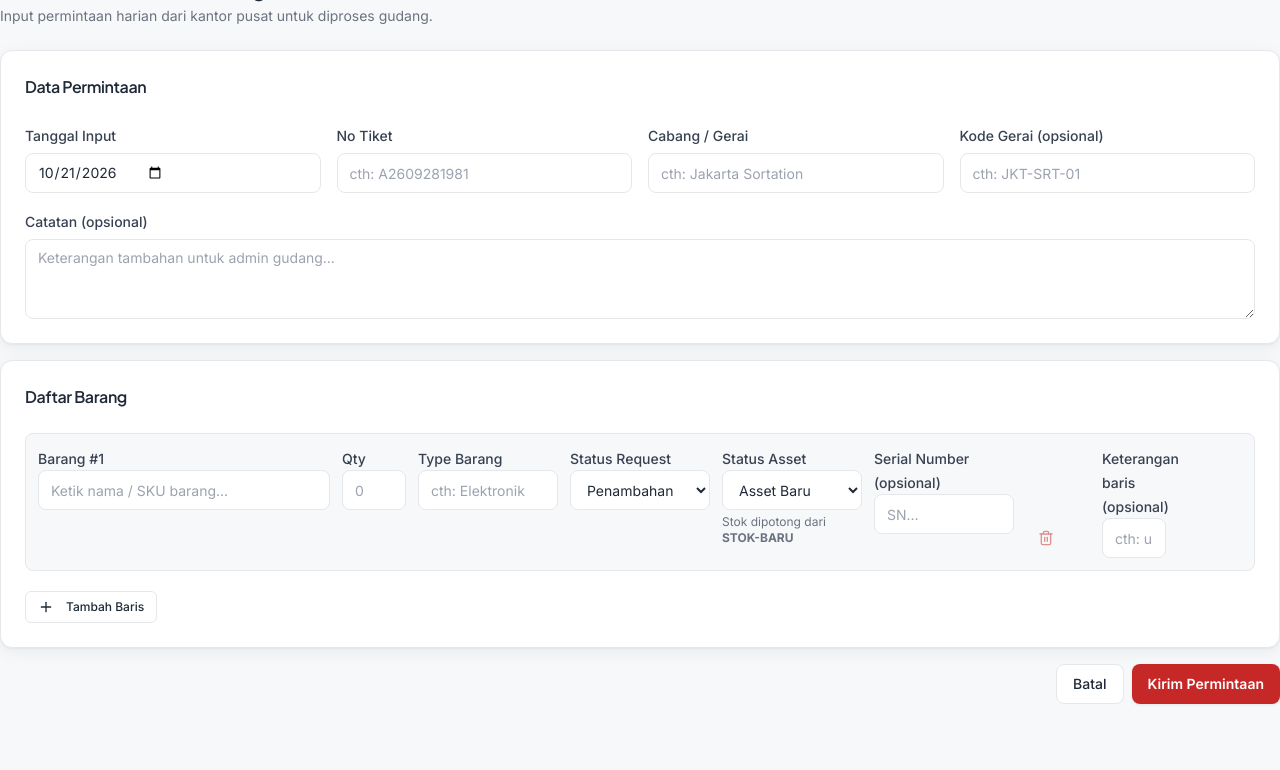
Test case: RequestFormPage — sisa stok saat memilih barang › memperingatkan bila qty melebihi stok lokasi pemotong
Type "MON" into the field with placeholder "Ketik nama / SKU barang…" at point(184, 490), box [38,470,330,510]
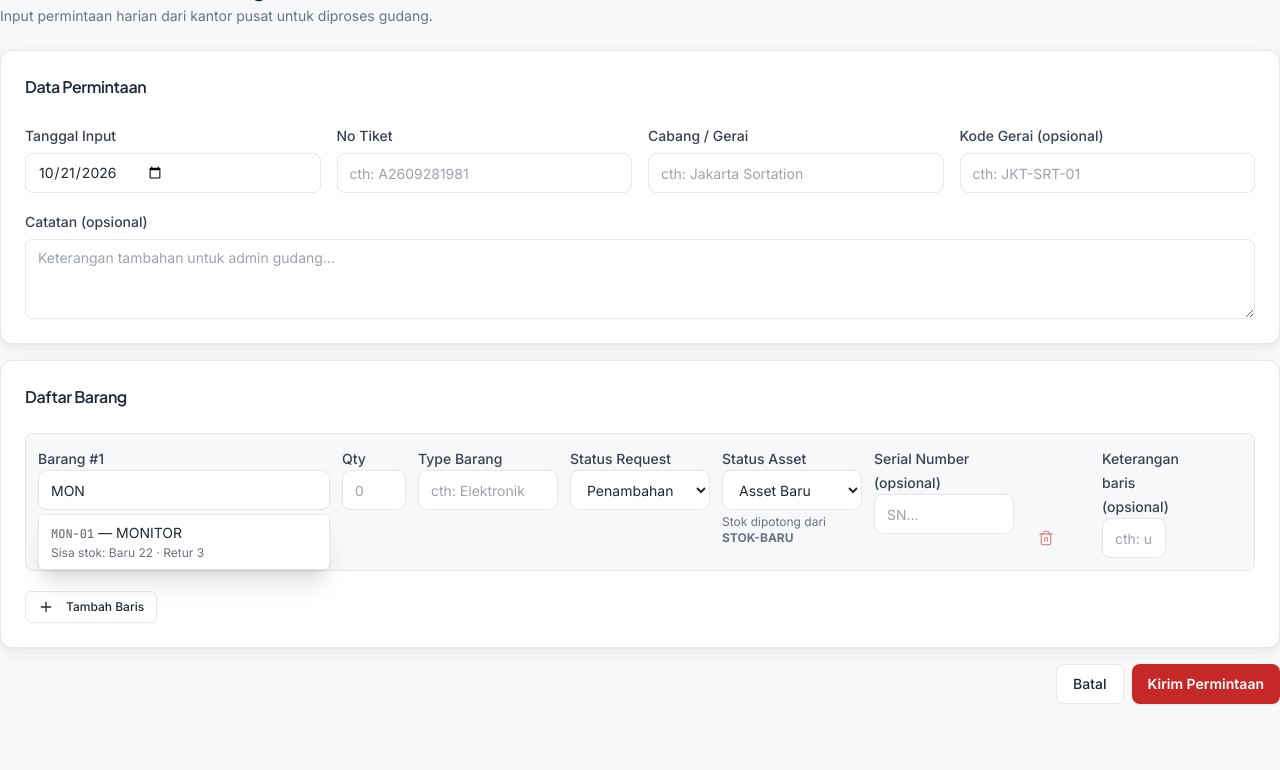
Press the mouse on the button "MON-01 — MONITOR Sisa stok: Baru 22 · Retur 3" at point(184, 542), box [39,515,329,569]
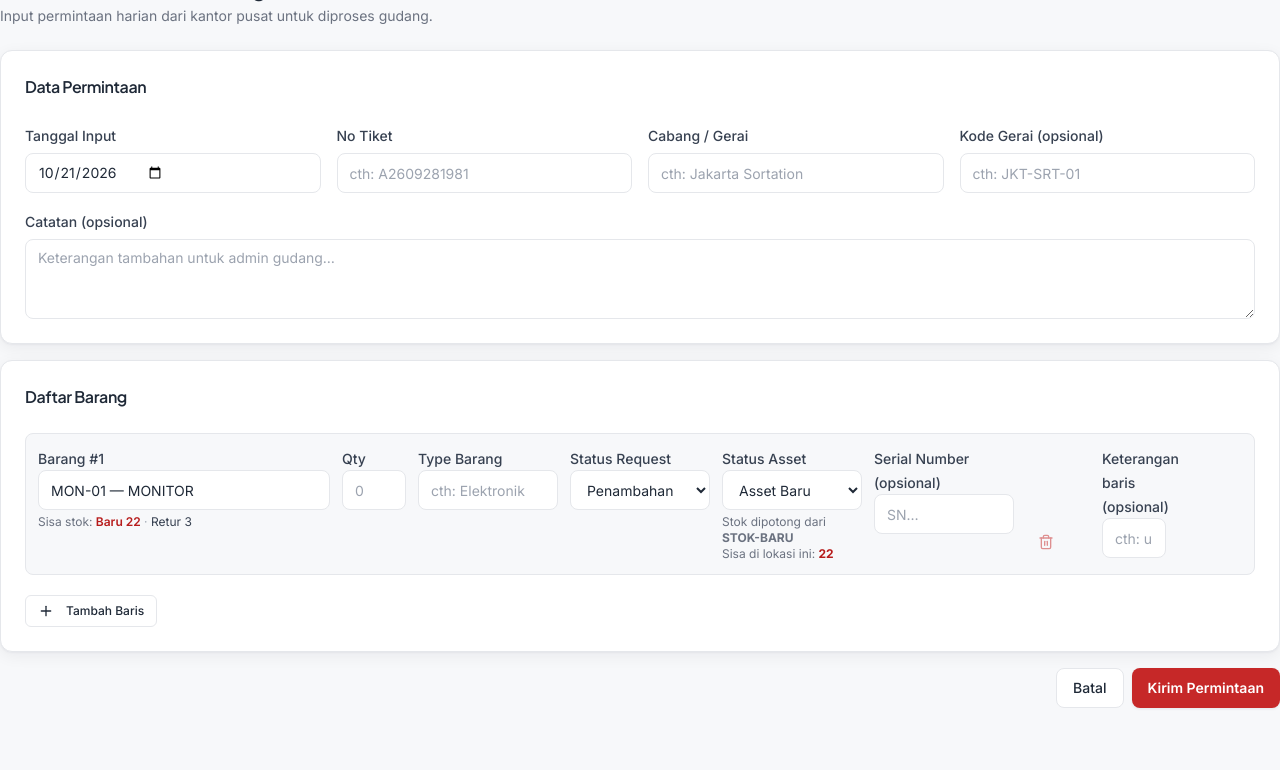
Expected: the text "Sisa stok:" is shown, [38,514,96,529]
Type "30" into the number field with placeholder "0" at point(374, 490), box [342,470,406,510]
(page scrolled)
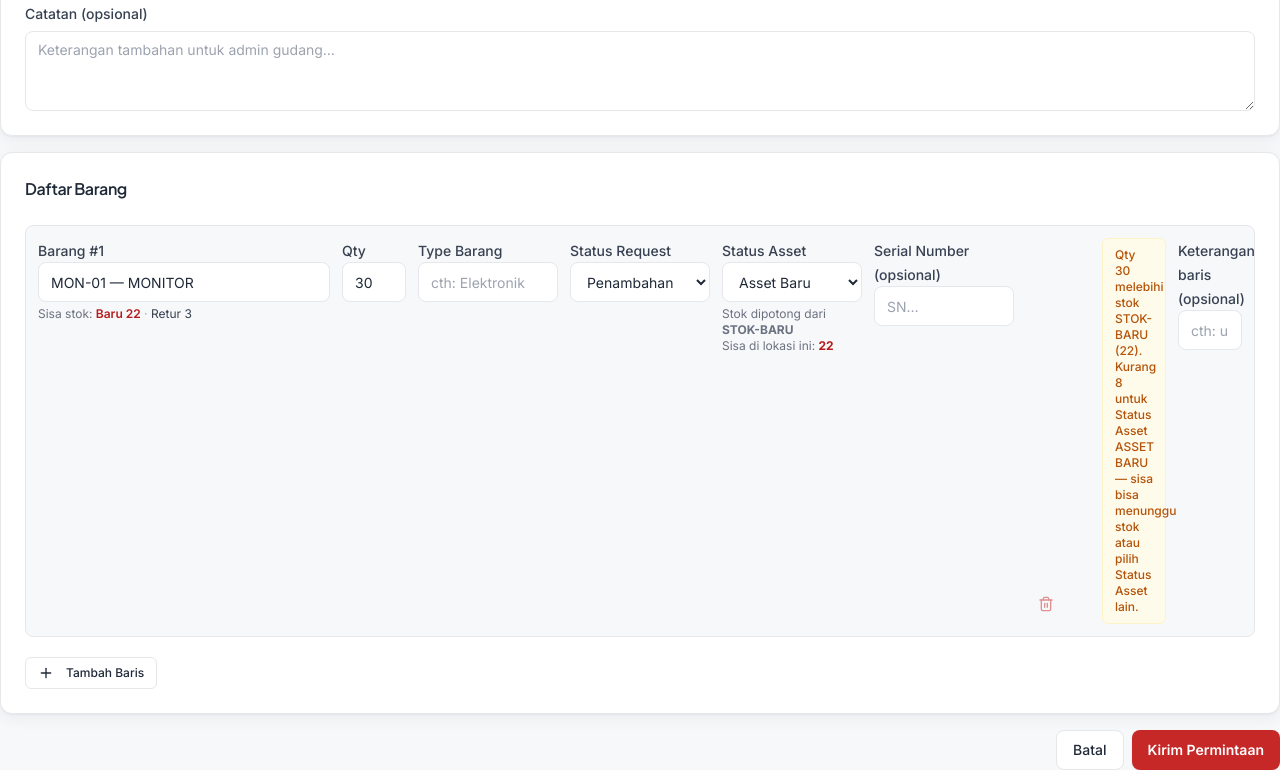
Expected: the text "melebihi stok STOK-BARU (22)" is shown, [1115,247,1176,614]
